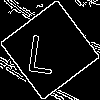L: (25, 25, 59, 75)
